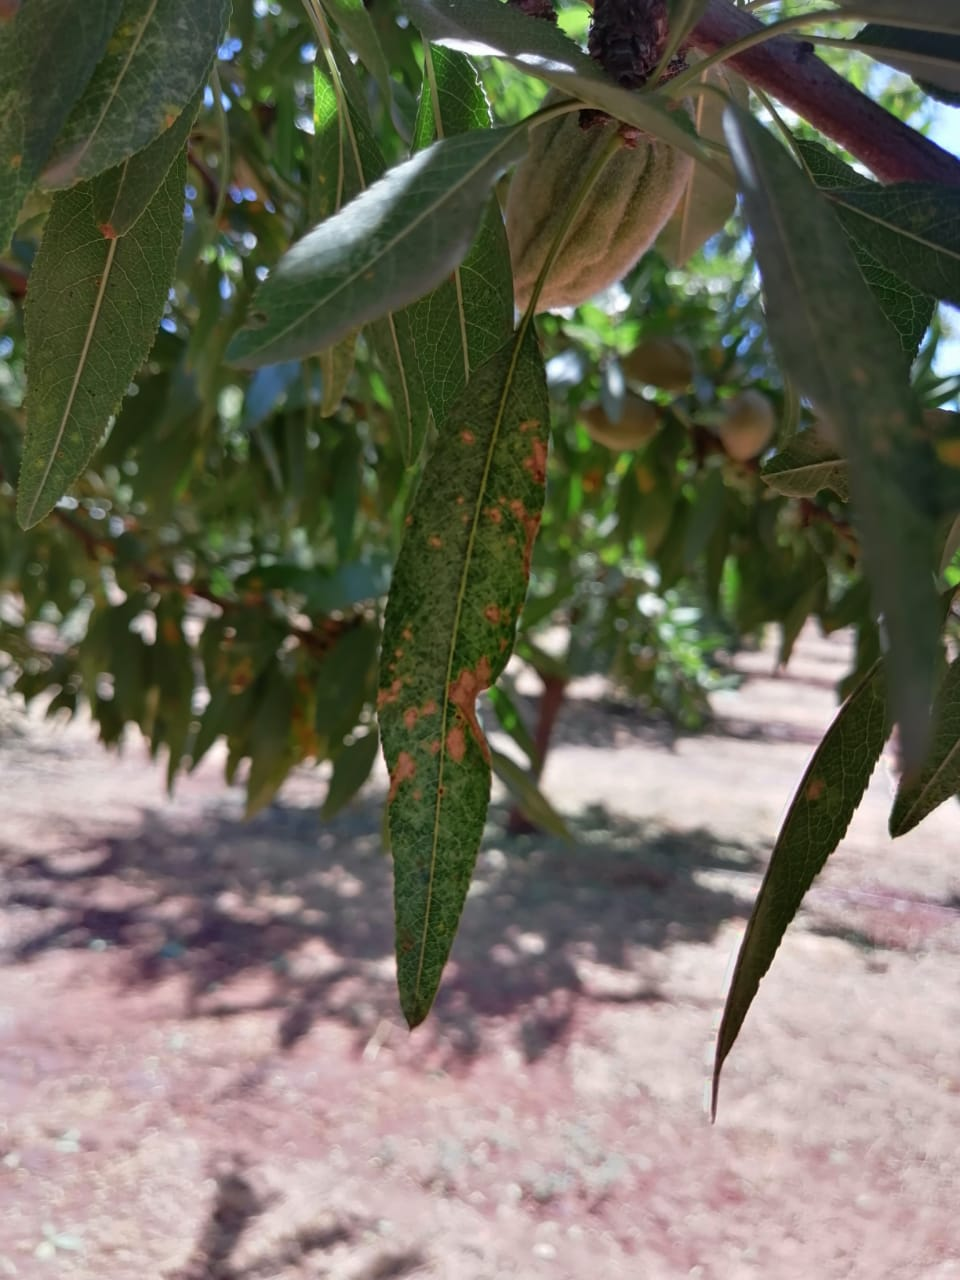faux tigre: (374, 317, 553, 1037)
